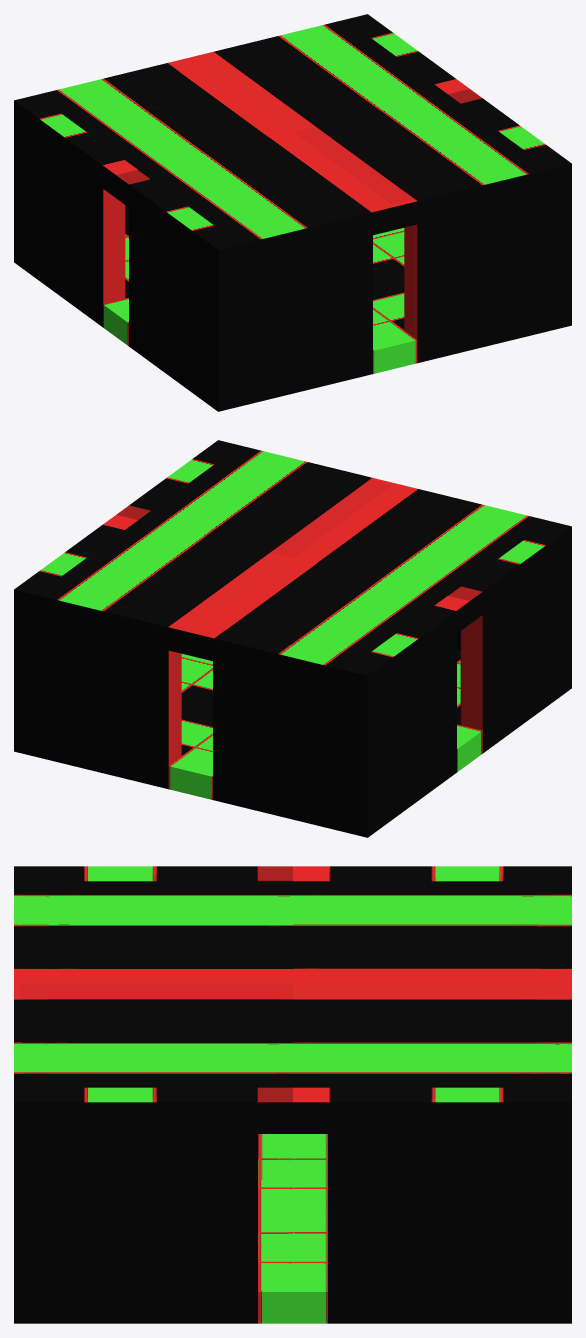
The model's file is Room1.dae.
3 views of the same model, one above another, from view 1: azimuth 30°, elevation 25°; view 2: azimuth 150°, elevation 25°; view 3: azimuth 270°, elevation 25° (orthographic). The views are drawn at different scales.
Parts seen in each view (by area): view 1: Plane; view 2: Plane; view 3: Plane.
Boxes of the visible parts, <box> form: Plane: <box>14,14,571,411</box>; Plane: <box>14,440,571,837</box>; Plane: <box>14,866,571,1323</box>.
Bounding box in the file's own units: 16 × 16 × 7.
1 material, 1 textured.
